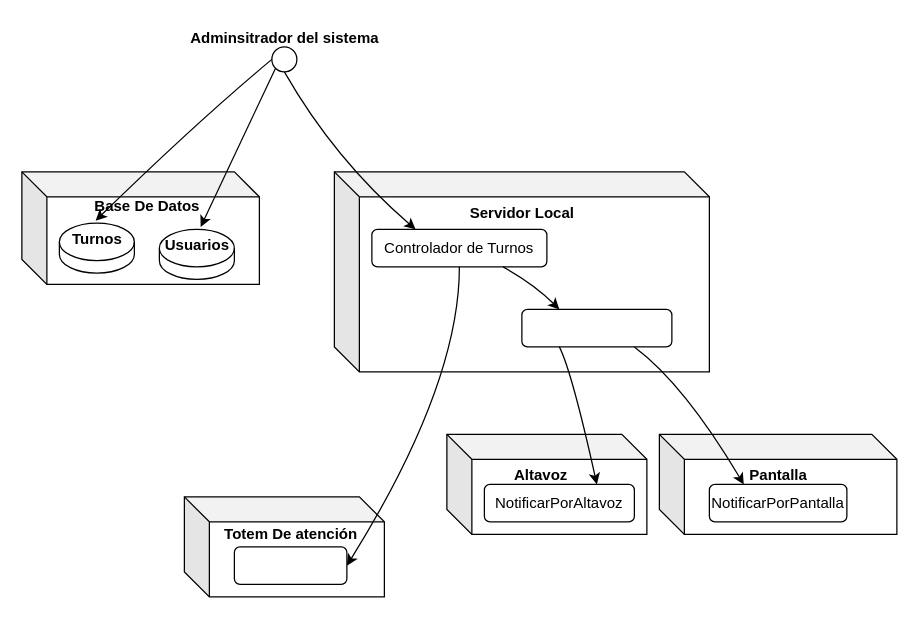
Image size: 919x619. Some labels were removed from this diagram. Each missing label, with the centre of its shape:
"Notificador de turnos" belongs at (596,327).
"Usuario" belongs at (290,565).
